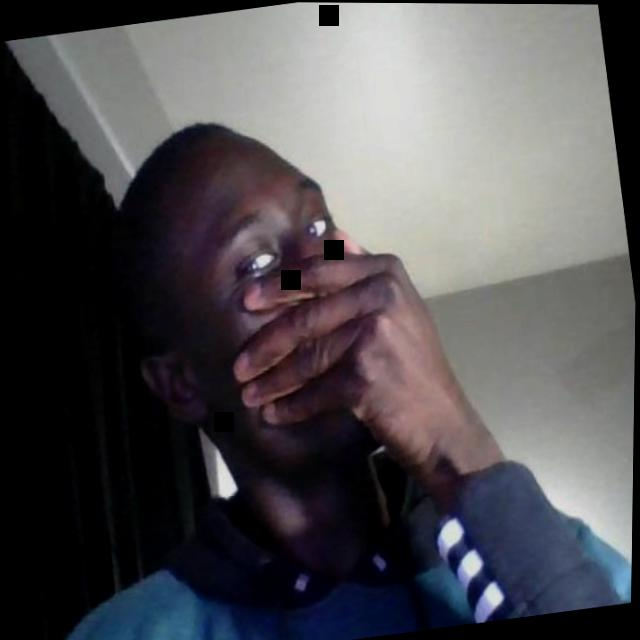NO-Mask: (162, 147, 395, 493)
